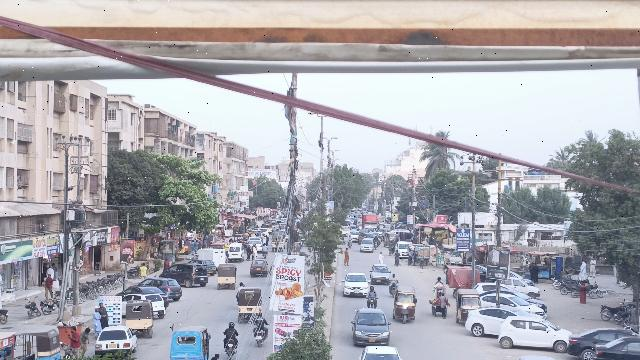Bike: (223, 338, 237, 360), (252, 328, 266, 349), (365, 296, 379, 310), (389, 282, 397, 298)
Car: (496, 314, 571, 351), (463, 306, 542, 336), (564, 326, 629, 359), (349, 309, 392, 347), (95, 324, 140, 357), (160, 263, 210, 288), (593, 335, 640, 360), (341, 272, 372, 297), (369, 264, 392, 282), (249, 257, 269, 277)
Cart: (428, 281, 451, 319)
Person: (97, 301, 111, 327), (91, 305, 102, 337), (79, 326, 90, 357), (222, 321, 238, 339), (254, 310, 268, 330), (341, 247, 352, 267), (393, 248, 402, 267), (365, 286, 378, 298), (376, 249, 386, 264), (389, 272, 398, 283)
Rickshaw: (169, 325, 210, 360), (124, 300, 157, 339), (390, 284, 418, 327), (453, 286, 480, 329), (236, 287, 267, 323), (215, 264, 239, 292)
Truck: (196, 246, 228, 265)
